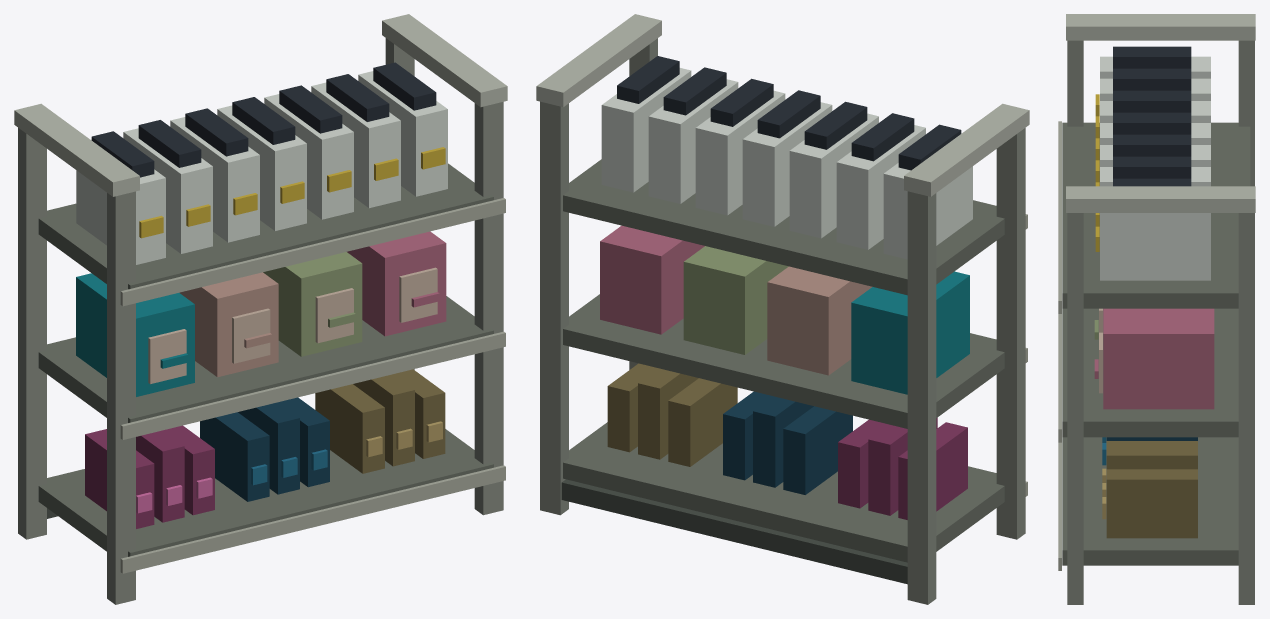
File: CMU3DWeymartShelf2.glb
The picture shows the model from 3 angles, left to right: view 1: azimuth 30°, elevation 25°; view 2: azimuth 150°, elevation 25°; view 3: azimuth 270°, elevation 25°; orthographic projection. The views are drawn at different scales.
Visible parts, largest first — view 1: shelf deck (×3), shelf upright (×3), top narrow package (×7), small bottom stock (×9), product carton (×4), shelf pale front lip (×3), top cap (×7), top end cap (×2), printed product label (×4); view 2: shelf deck (×3), shelf upright (×3), top narrow package (×7), product carton (×4), small bottom stock (×9), top cap (×7), top end cap (×2), rear base stretcher; view 3: shelf deck (×3), shelf upright (×4), top narrow package (×7), top cap (×7), product carton, top end cap (×2), small bottom stock (×4), shelf pale front lip (×3).
Boxes of the visible parts, x1,y1,x2,y2 form: shelf deck (×3): [38, 163, 493, 556]; shelf upright (×3): [18, 101, 503, 604]; top narrow package (×7): [76, 71, 447, 264]; small bottom stock (×9): [85, 369, 445, 528]; product carton (×4): [76, 231, 446, 396]; shelf pale front lip (×3): [120, 198, 505, 573]; top cap (×7): [91, 62, 436, 177]; top end cap (×2): [14, 14, 507, 196]; printed product label (×4): [148, 267, 437, 384]; shelf deck (×3): [563, 159, 1004, 562]; shelf upright (×3): [540, 101, 1025, 604]; top narrow package (×7): [601, 68, 972, 259]; product carton (×4): [600, 225, 969, 394]; small bottom stock (×9): [607, 363, 967, 519]; top cap (×7): [617, 56, 961, 170]; top end cap (×2): [536, 14, 1029, 196]; rear base stretcher: [561, 479, 907, 584]; shelf deck (×3): [1062, 122, 1250, 565]; shelf upright (×4): [1067, 40, 1254, 604]; top narrow package (×7): [1100, 56, 1210, 280]; top cap (×7): [1113, 46, 1191, 186]; product carton: [1103, 308, 1214, 409]; top end cap (×2): [1066, 14, 1255, 212]; small bottom stock (×4): [1106, 437, 1197, 538]; shelf pale front lip (×3): [1058, 121, 1061, 570].
Size of the model in its own units: 0.966 by 0.9914 by 0.4356.
